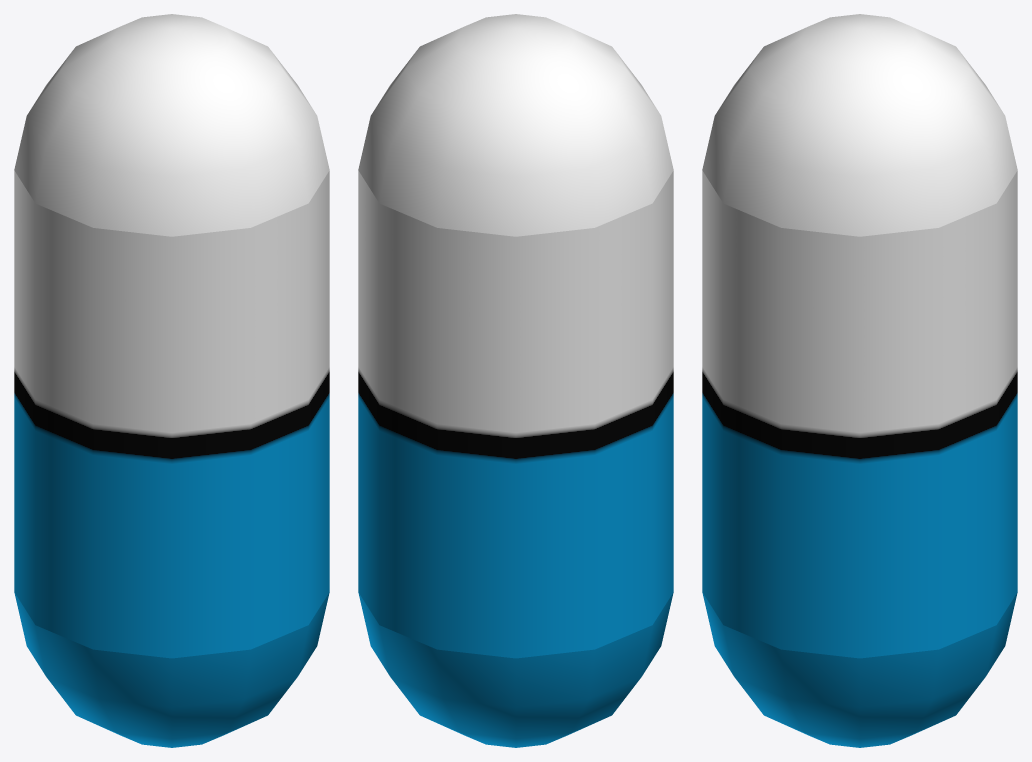
Rendered from pill.obj.
3 renders of one model, left to right at view 1: azimuth 30°, elevation 25°; view 2: azimuth 150°, elevation 25°; view 3: azimuth 270°, elevation 25°, orthographic.
Parts seen in each view (by area): view 1: OilTank001.001; view 2: OilTank001.001; view 3: OilTank001.001.
Boxes of the visible parts, left/top/right/bottom form: OilTank001.001: left=14, top=14, right=329, bottom=747; OilTank001.001: left=358, top=14, right=673, bottom=747; OilTank001.001: left=702, top=14, right=1017, bottom=747.
Bounding box in the file's own units: 0.9196 × 2.27 × 0.9196.
